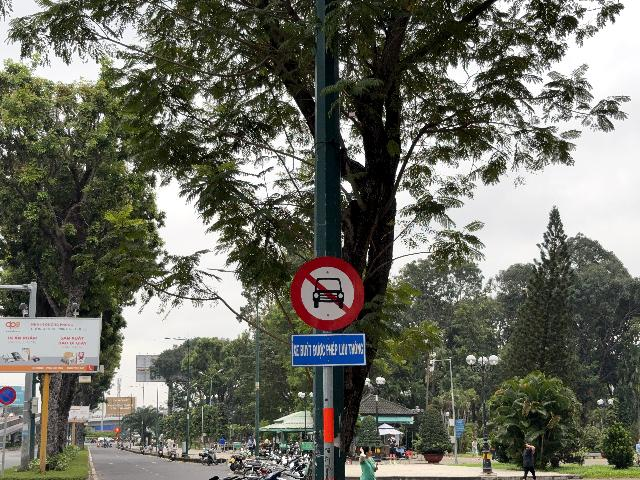cam-o-to: (291, 256, 364, 332)
